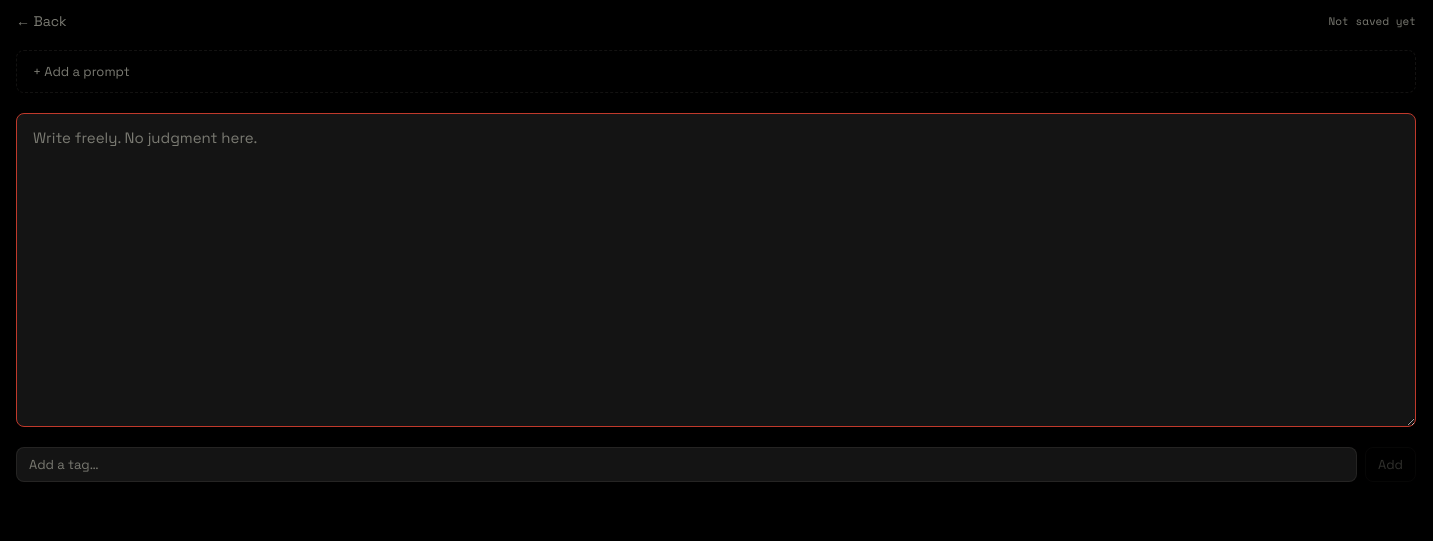
Test: JournalEntry — new entry mode › dismisses the prompt when "Dismiss" is clicked
Click the button "+ Add a prompt". click: [81, 72]
box: [16,50,1416,93]
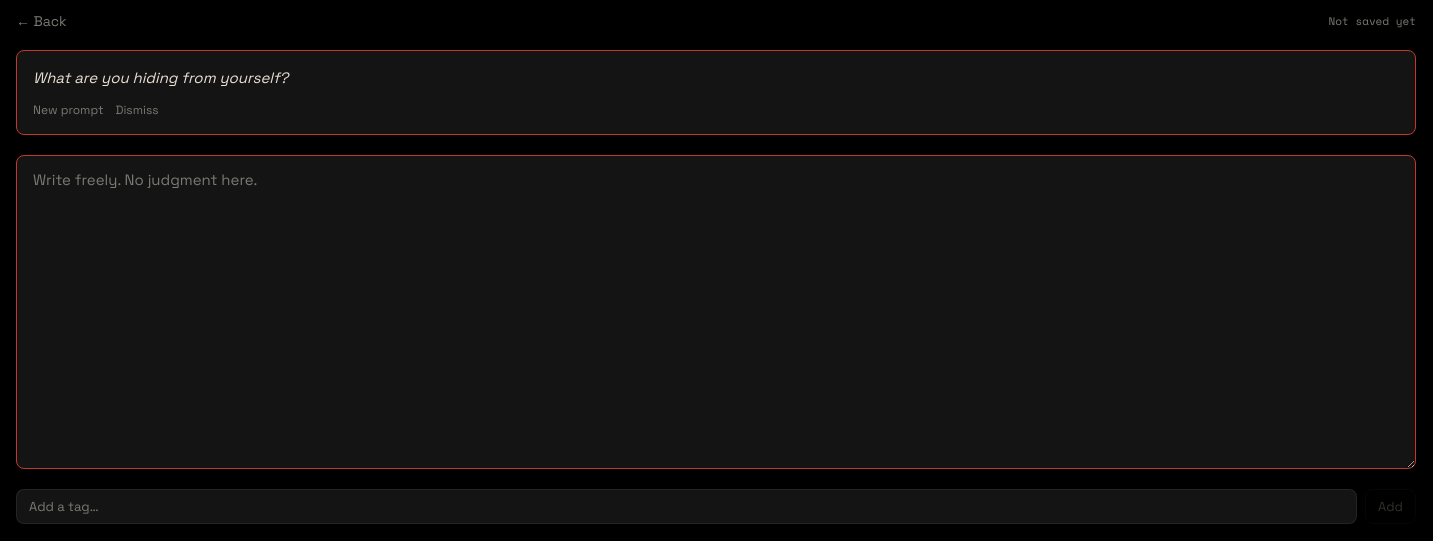
Expected: the text "What are you hiding from yourself?" is shown, [33,68,288,87]
Click the button "Dismiss". click: [137, 110]
box: [115,102,158,118]
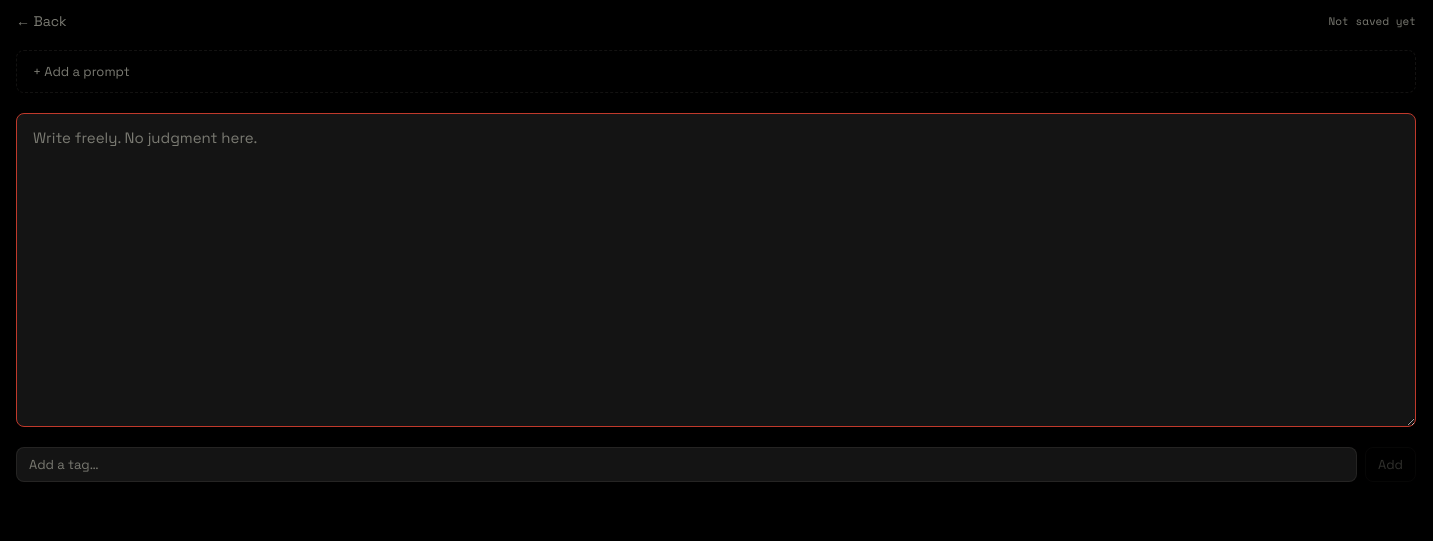
Expected: the text "What are you hiding from yourself?" is gone
Expected: the button "+ Add a prompt" is shown, [16,50,1416,93]
